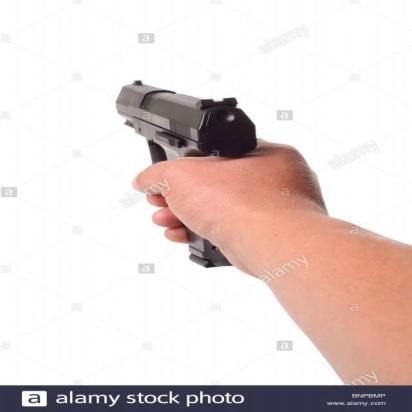Gun: (94, 71, 288, 274)
